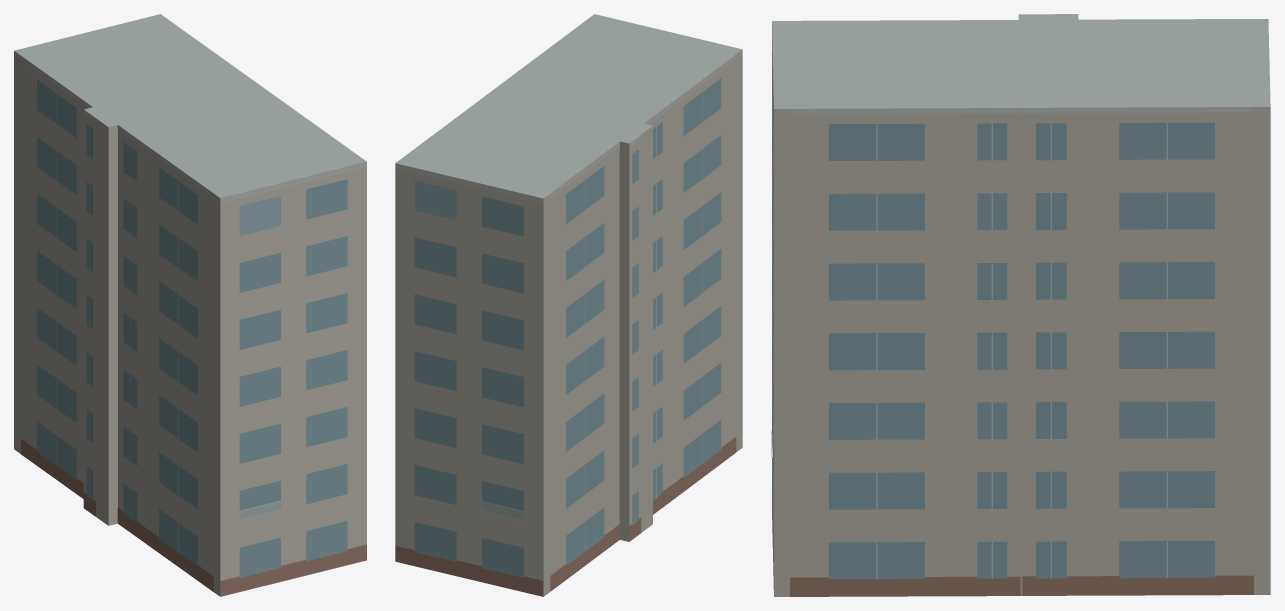
Rendered from survey-upis-33000645.glb.
3 views of the same model, side by side, from view 1: azimuth 30°, elevation 25°; view 2: azimuth 150°, elevation 25°; view 3: azimuth 270°, elevation 25° (orthographic). The views are drawn at different scales.
Visible parts, largest first — view 1: survey-upis-33000645.tmp; view 2: survey-upis-33000645.tmp; view 3: survey-upis-33000645.tmp.
Part boxes in pixels (x1,y1,x2,y2): survey-upis-33000645.tmp: [14, 14, 366, 596]; survey-upis-33000645.tmp: [395, 14, 742, 596]; survey-upis-33000645.tmp: [771, 14, 1270, 596].
Bounding box in the file's own units: 8.31 × 19.9 × 18.46.
